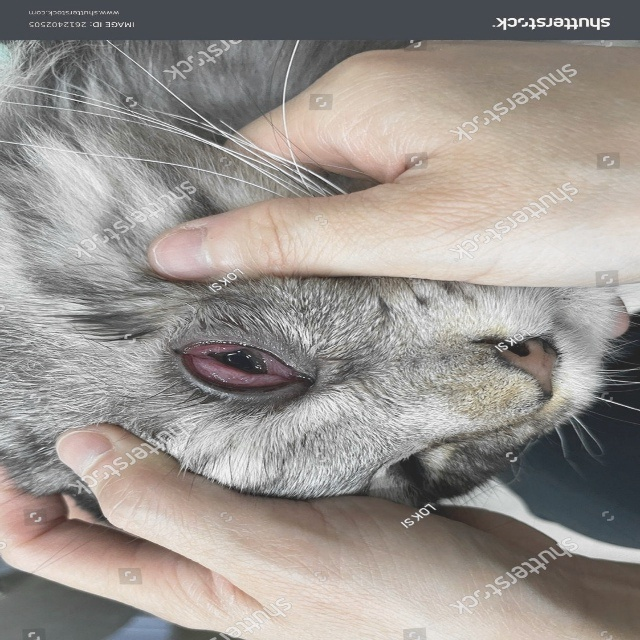eye_infection: (174, 339, 305, 397)
